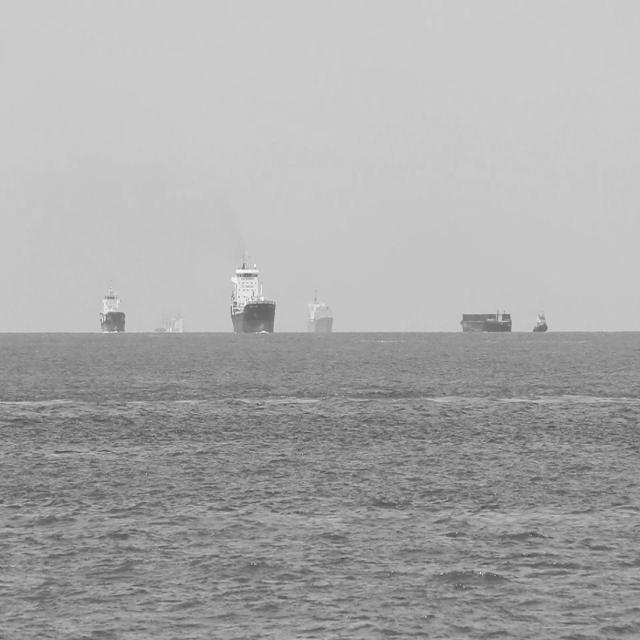ship: (227, 245, 278, 336), (456, 300, 514, 333), (98, 274, 127, 337), (304, 284, 336, 338), (529, 308, 551, 334)
